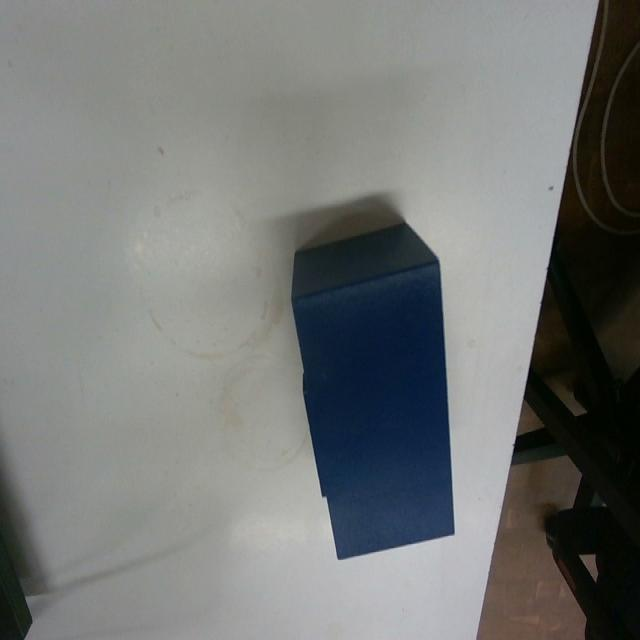Blue Cuboid: (288, 216, 457, 560)
